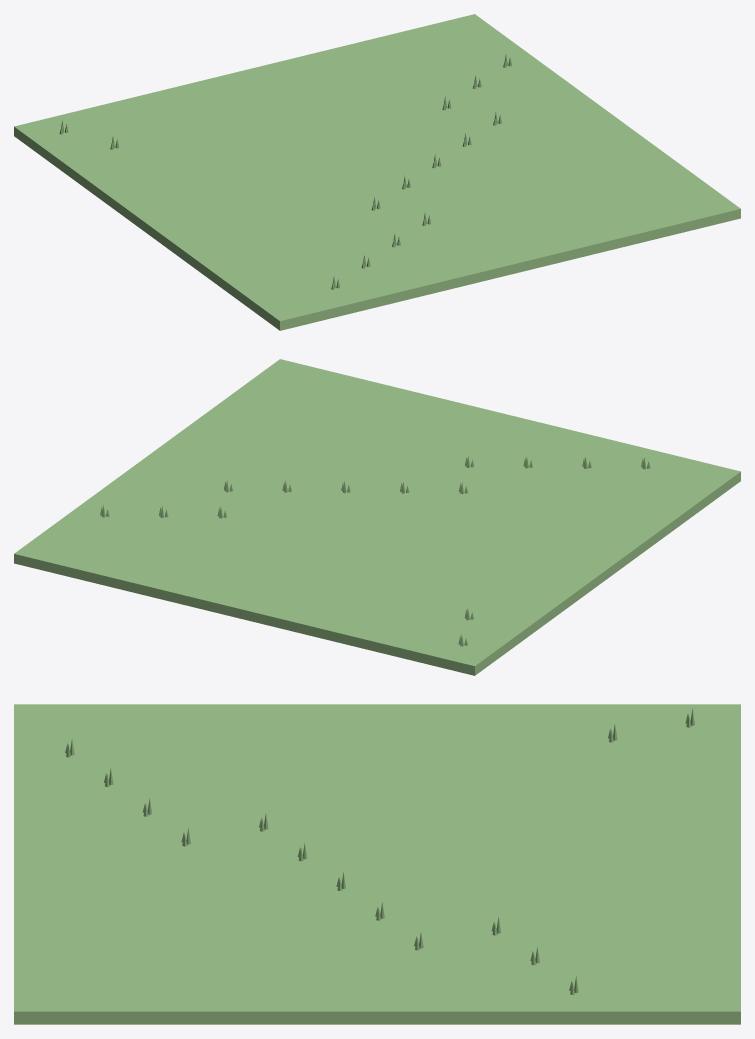
Rendered from racecourse-and-parade-ring-grass-ground-module-97024bce__38646.glb.
The picture shows the model from 3 angles, top to bottom: view 1: azimuth 30°, elevation 25°; view 2: azimuth 150°, elevation 25°; view 3: azimuth 270°, elevation 25°; orthographic projection. The views are drawn at different scales.
Parts seen in each view (by area): view 1: grass-ground-module; view 2: grass-ground-module; view 3: grass-ground-module.
Part boxes in pixels (box(x1,y1,x2,y2)): grass-ground-module: box(14, 14, 740, 330); grass-ground-module: box(14, 359, 740, 675); grass-ground-module: box(14, 704, 740, 1024).
Bounding box in the file's own units: 6 × 0.2699 × 6.
